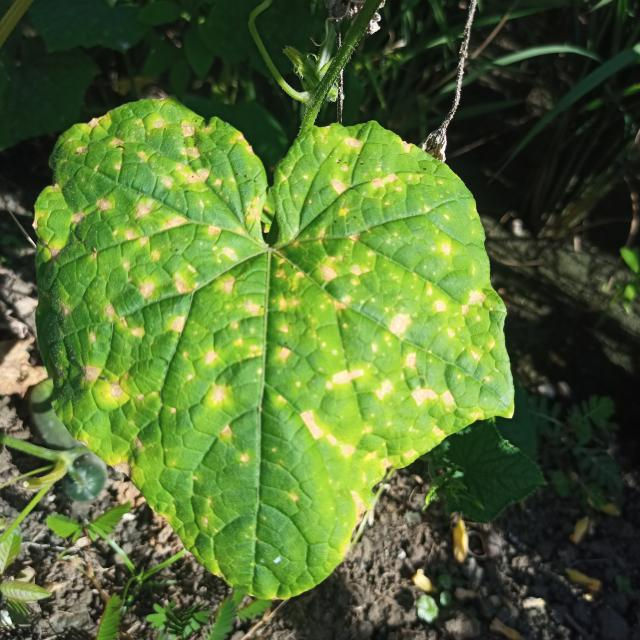disease_cucumber: (37, 108, 494, 564)
